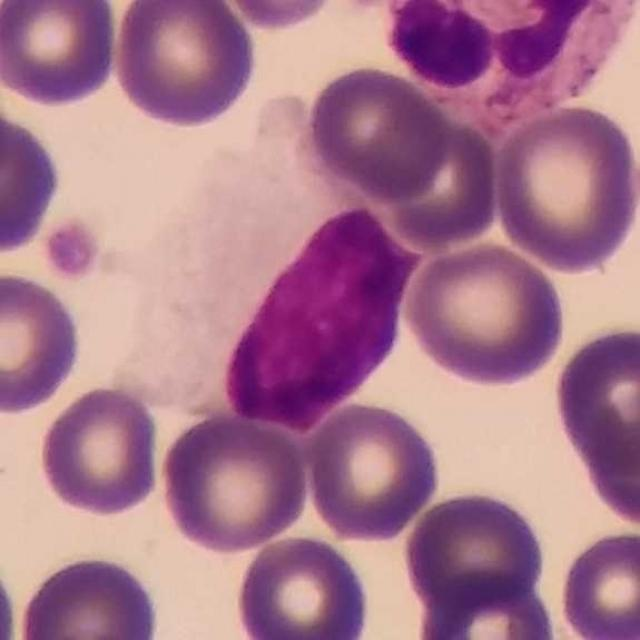Lymphocyte: (123, 105, 423, 434)
Neutrophil: (365, 0, 637, 141)
Platelets: (41, 217, 105, 283)
RBC: (488, 100, 640, 276), (399, 237, 570, 390), (156, 406, 313, 557), (300, 61, 452, 206), (302, 398, 445, 544), (108, 0, 261, 131), (397, 486, 551, 616), (368, 108, 506, 253), (34, 382, 166, 520), (548, 317, 640, 508), (231, 532, 374, 639), (15, 550, 164, 640), (1, 0, 124, 109), (0, 266, 87, 419), (0, 99, 67, 261), (410, 570, 562, 640), (575, 381, 640, 536), (555, 525, 640, 640), (209, 0, 344, 35)
